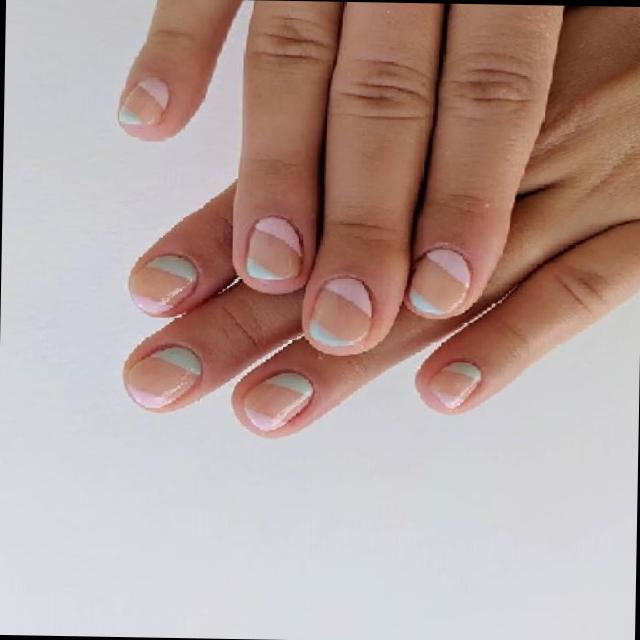Nail: (128, 347, 201, 408), (410, 246, 470, 316), (131, 252, 199, 313), (311, 276, 371, 345), (243, 372, 313, 429), (247, 219, 301, 279), (429, 360, 481, 409), (119, 78, 168, 125)
